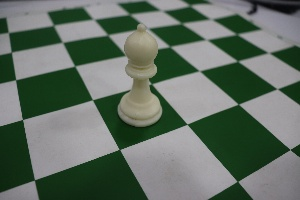white_bishop: (109, 4, 168, 130)
